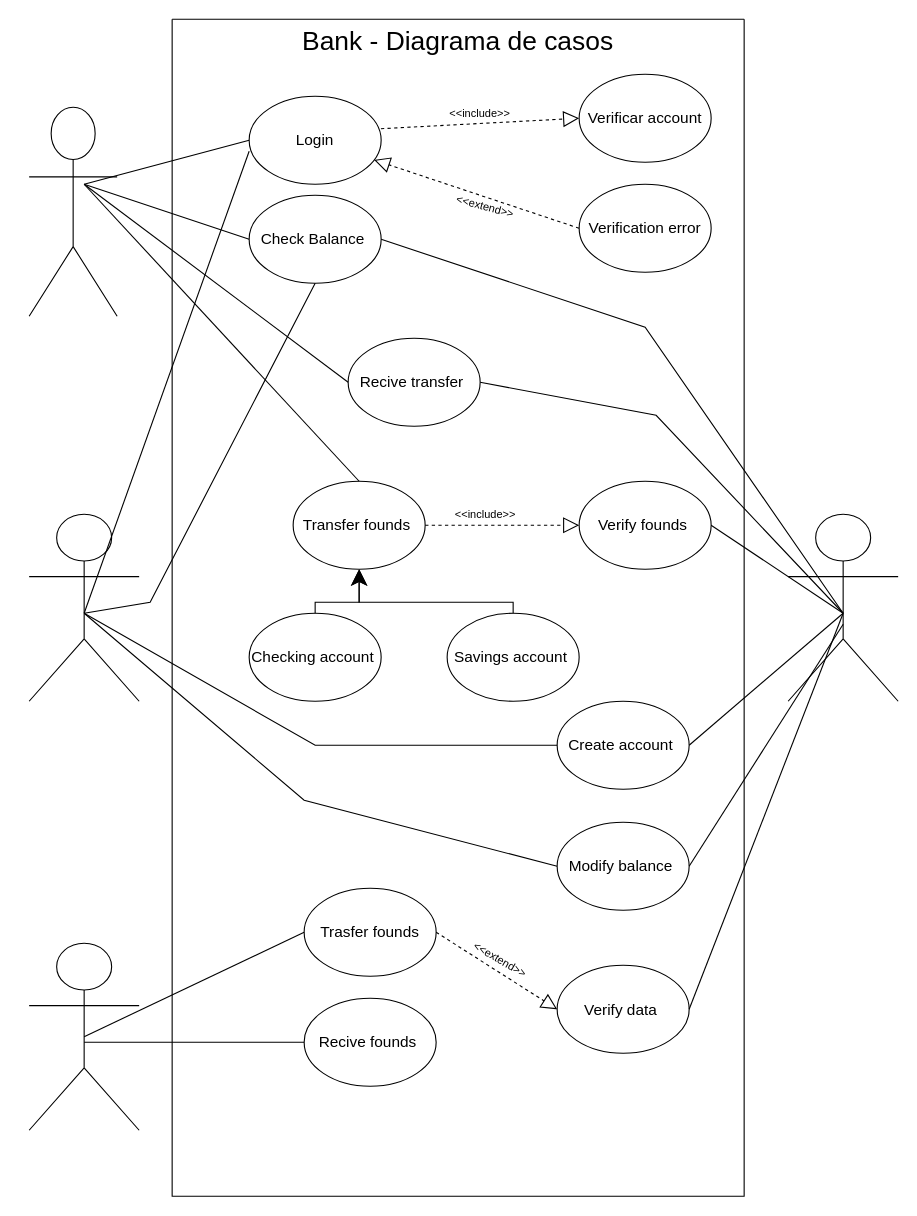
The diagram is 917 pixels wide and 1216 high, and some of its shapes have lost their labels. The box of each missing label's shape, as (x1, y1, x2, y2) in pixels:
Account Holder: (28, 106, 117, 316)
Admin: (28, 513, 139, 701)
Bank: (787, 513, 898, 701)
Third-Party: (28, 942, 139, 1130)
